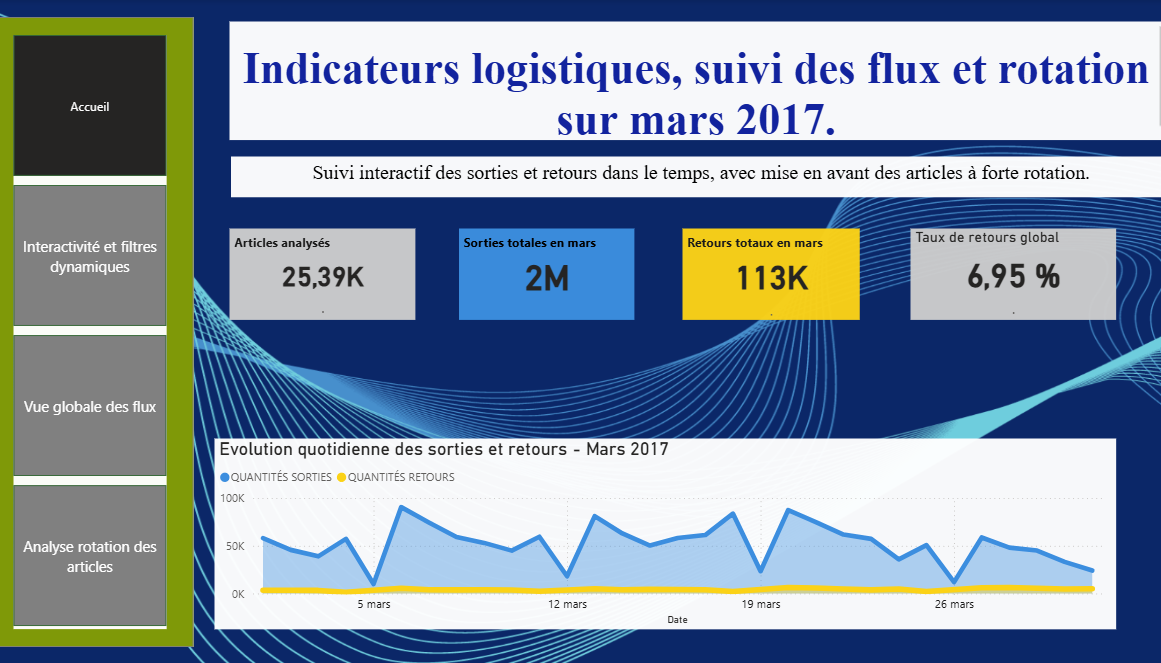

The page's visual inventory and layout, read from the dashboard file:
{"tool":"powerbi","page":{"name":"Accueil","canvas":[1280,720],"ordinal":0},"visuals":[{"type":"shape","box":[0,19.4,225.1,680.1],"z":0},{"type":"textbox","box":[263.9,24.3,1016.9,127.9],"z":1000},{"type":"pageNavigator","box":[30.8,38.9,165.2,641.2],"z":2000},{"type":"card","fields":{"Values":["Sum(Tableau final.Quantité sorties)"]},"box":[511.7,247.7,189.4,98.8],"z":3000},{"type":"card","fields":{"Values":["Sum(Tableau final.Quantité retours)"]},"box":[752.9,247.7,191.1,98.8],"z":4000},{"type":"lineChart","title":"Evolution quotidienne des sorties et retours - Mars 2017","fields":{"Category":["Calendrier.Date"],"Y":["Sum(Prel_30_jours_data.QTE SORTIES)","Sum(retours_30_jours_data.QTE RETOURS)"]},"box":[247.6,474.3,973.2,206],"z":5000},{"type":"textbox","box":[265.6,170,1015.3,43.7],"z":6000},{"type":"card","fields":{"Values":["CountNonNull(Tableau final.Article)"]},"box":[263.9,247.7,200.8,98.8],"z":7000},{"type":"card","title":"Taux de retours global","fields":{"Values":["Calendrier.Taux de retours global"]},"box":[999.1,247.7,221.8,98.8],"z":8000}]}

Visuals, with their boxes in screenshot pixels (x1, y1, x2, y2), scaled from the page's 1280x720 canvas onto the 1161x663 screenshot:
shape: [left=0, top=18, right=204, bottom=644]
textbox: [left=239, top=22, right=1160, bottom=140]
pageNavigator: [left=28, top=36, right=178, bottom=626]
card - Sum(Tableau final.Quantité sorties): [left=464, top=228, right=636, bottom=319]
card - Sum(Tableau final.Quantité retours): [left=683, top=228, right=856, bottom=319]
"Evolution quotidienne des sorties et retours - Mars 2017" lineChart: [left=225, top=437, right=1107, bottom=626]
textbox: [left=241, top=157, right=1160, bottom=197]
card - CountNonNull(Tableau final.Article): [left=239, top=228, right=421, bottom=319]
"Taux de retours global" card: [left=906, top=228, right=1107, bottom=319]
